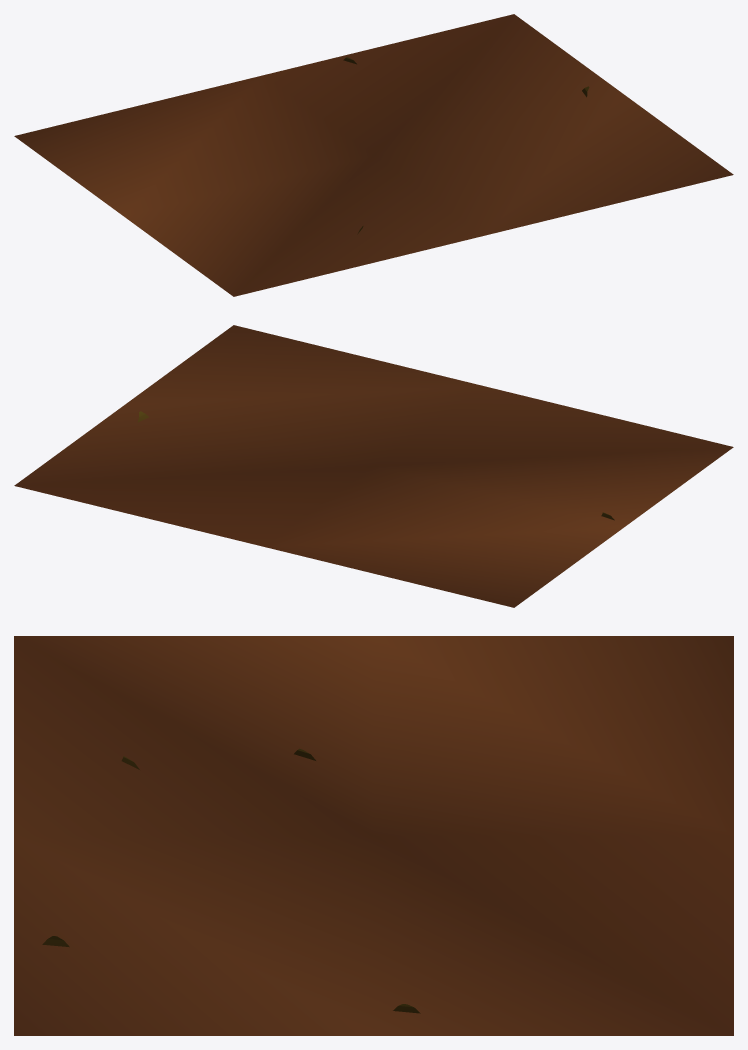
Rendered from fm_turf_bare_lod1.glb.
3 renders of one model, top to bottom at view 1: azimuth 30°, elevation 25°; view 2: azimuth 150°, elevation 25°; view 3: azimuth 270°, elevation 25°, orthographic. The views are drawn at different scales.
Visible parts, largest first — view 1: fm_turf_bare_lod1; view 2: fm_turf_bare_lod1; view 3: fm_turf_bare_lod1.
Part boxes in pixels (x1,y1,x2,y2): fm_turf_bare_lod1: (14,14,733,296); fm_turf_bare_lod1: (14,325,733,607); fm_turf_bare_lod1: (14,636,733,1035).
Bounding box in the file's own units: 2.3 × 0.0354 × 1.75.
